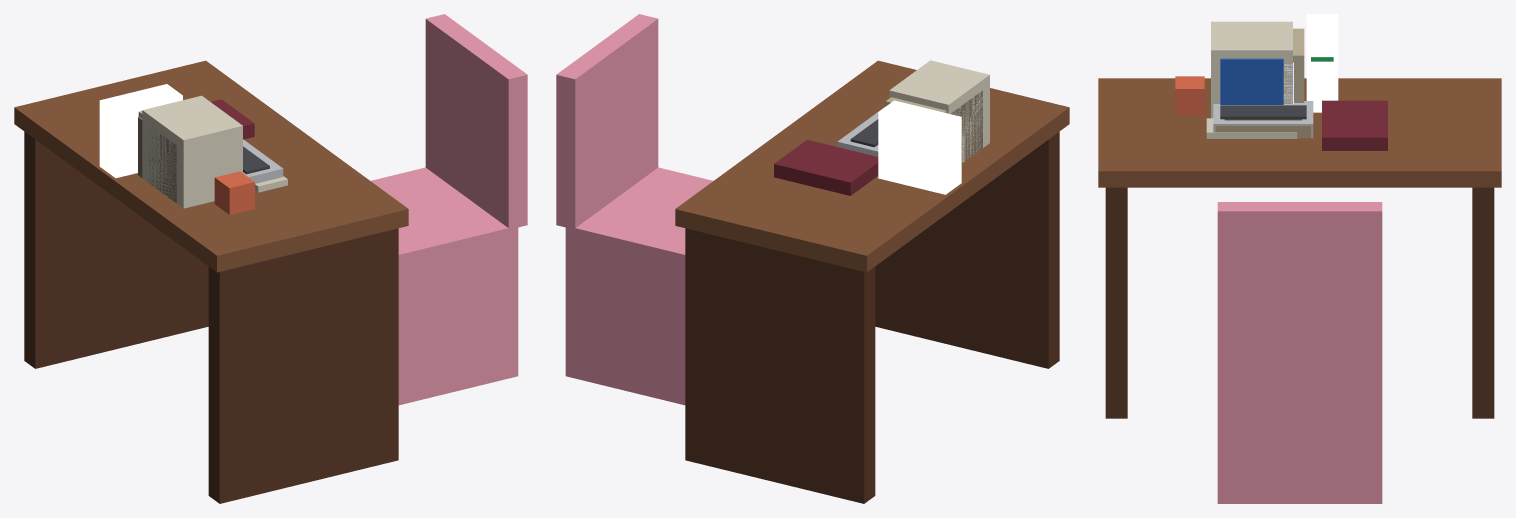
File: desk.glb
3 renders of one model, left to right at view 1: azimuth 30°, elevation 25°; view 2: azimuth 150°, elevation 25°; view 3: azimuth 270°, elevation 25°, orthographic.
Visible parts, largest first — view 1: Box2, Box1, Box3, Box6, Box7, Box9, Box11, Box5, Box19, Box17; view 2: Box3, Box1, Box2, Box6, Box7, Box11, Box9, Box4, Box19, Box17; view 3: Box1, Box7, Box6, Box2, Box3, Box9, Box4, Box10, Box11, Box18, Box5, Box17 (+3 smaller).
Boxes of the visible parts, x1,y1,x2,y2 form: Box2: (208, 228, 398, 503); Box1: (14, 60, 408, 272); Box3: (24, 131, 208, 368); Box6: (371, 167, 518, 405); Box7: (425, 14, 527, 229); Box9: (142, 95, 242, 208); Box11: (99, 84, 182, 178); Box5: (214, 171, 254, 214); Box19: (138, 116, 176, 202); Box17: (243, 139, 283, 183); Box3: (685, 228, 875, 503); Box1: (675, 60, 1069, 272); Box2: (875, 131, 1059, 368); Box6: (565, 167, 712, 405); Box7: (556, 14, 658, 229); Box11: (878, 100, 961, 194); Box9: (889, 60, 989, 162); Box4: (774, 139, 878, 195); Box19: (951, 90, 982, 163); Box17: (837, 106, 885, 156); Box1: (1098, 78, 1501, 187); Box7: (1217, 202, 1382, 360); Box6: (1217, 361, 1382, 503); Box2: (1105, 187, 1127, 418); Box3: (1472, 187, 1494, 418); Box9: (1211, 21, 1292, 118); Box4: (1322, 100, 1387, 150); Box10: (1220, 58, 1283, 104); Box11: (1306, 14, 1338, 112); Box18: (1220, 105, 1306, 119); Box5: (1175, 76, 1204, 115); Box17: (1213, 101, 1313, 138).
Size of the model in its own units: 1.16 by 0.9596 by 1.1.
